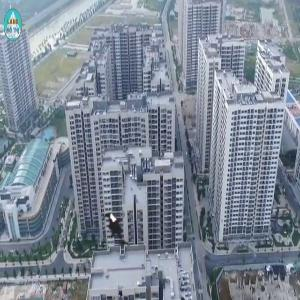drone: (90, 198, 152, 260)
